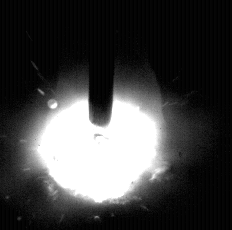arame: (89, 0, 114, 127)
poca: (37, 0, 157, 230)
